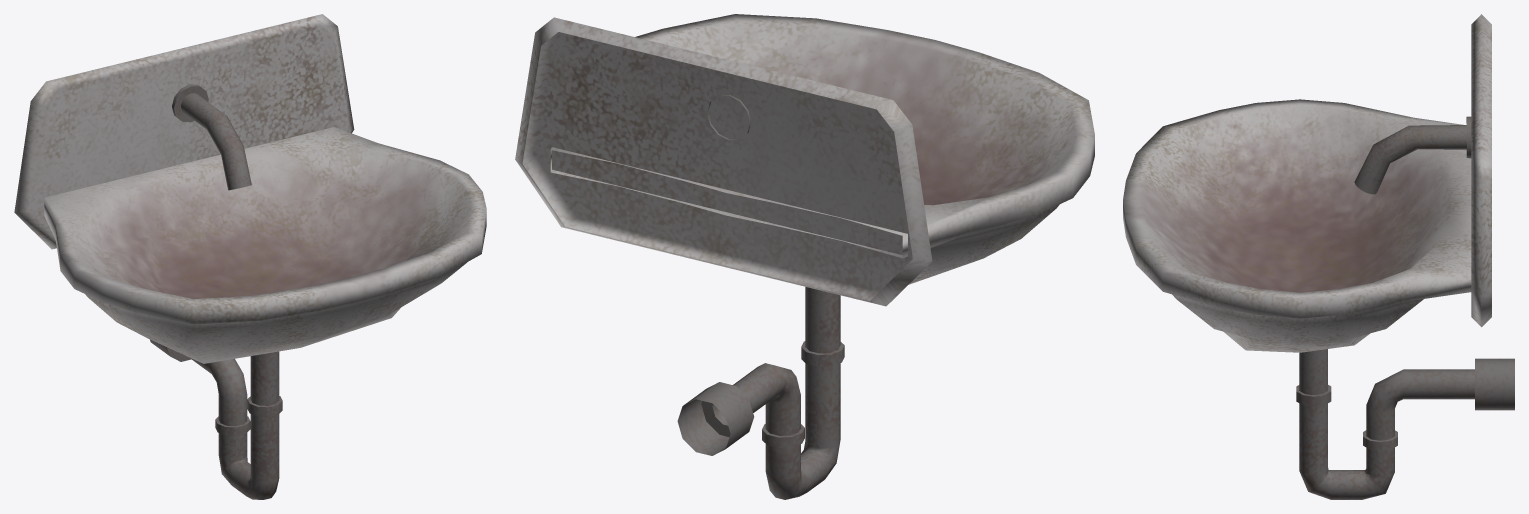
The model's file is BgMD_WashBasin.fbx.
3 views of the same model, side by side, from view 1: azimuth 30°, elevation 25°; view 2: azimuth 150°, elevation 25°; view 3: azimuth 270°, elevation 25° (orthographic). The views are drawn at different scales.
Visible parts, largest first — view 1: BgMD_WashBasin; view 2: BgMD_WashBasin; view 3: BgMD_WashBasin.
Boxes of the visible parts, bbox=[...] form: BgMD_WashBasin: bbox=[14, 14, 486, 499]; BgMD_WashBasin: bbox=[515, 14, 1094, 499]; BgMD_WashBasin: bbox=[1123, 14, 1514, 499].
Bounding box in the file's own units: 45.68 × 44.05 × 37.81.
1 material, 1 textured.
